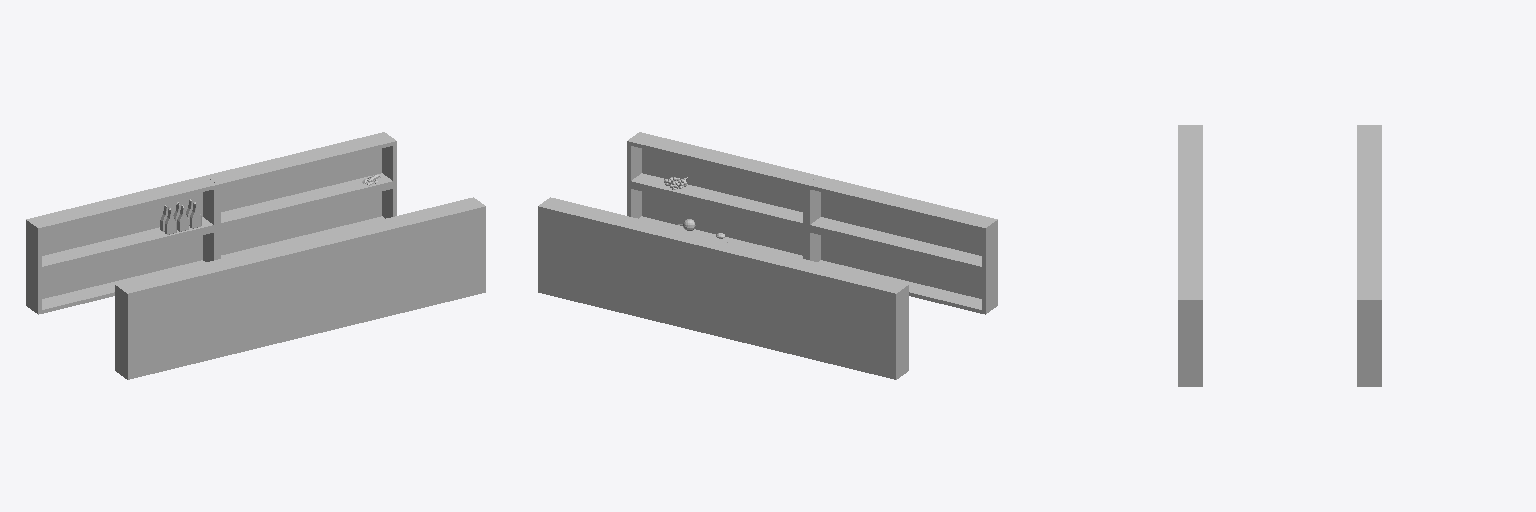
Rendered from Aisle2_Shelves.obj.
3 views of the same model, side by side, from view 1: azimuth 30°, elevation 25°; view 2: azimuth 150°, elevation 25°; view 3: azimuth 270°, elevation 25° (orthographic).
Parts seen in each view (by area): view 1: Aisle2_Shelves; view 2: Aisle2_Shelves; view 3: Aisle2_Shelves.
Boxes of the visible parts, <box> form: Aisle2_Shelves: <box>26,132,485,379</box>; Aisle2_Shelves: <box>538,132,997,379</box>; Aisle2_Shelves: <box>1178,125,1381,386</box>.
Size of the model in its own units: 10.27 by 2.36 by 5.04.